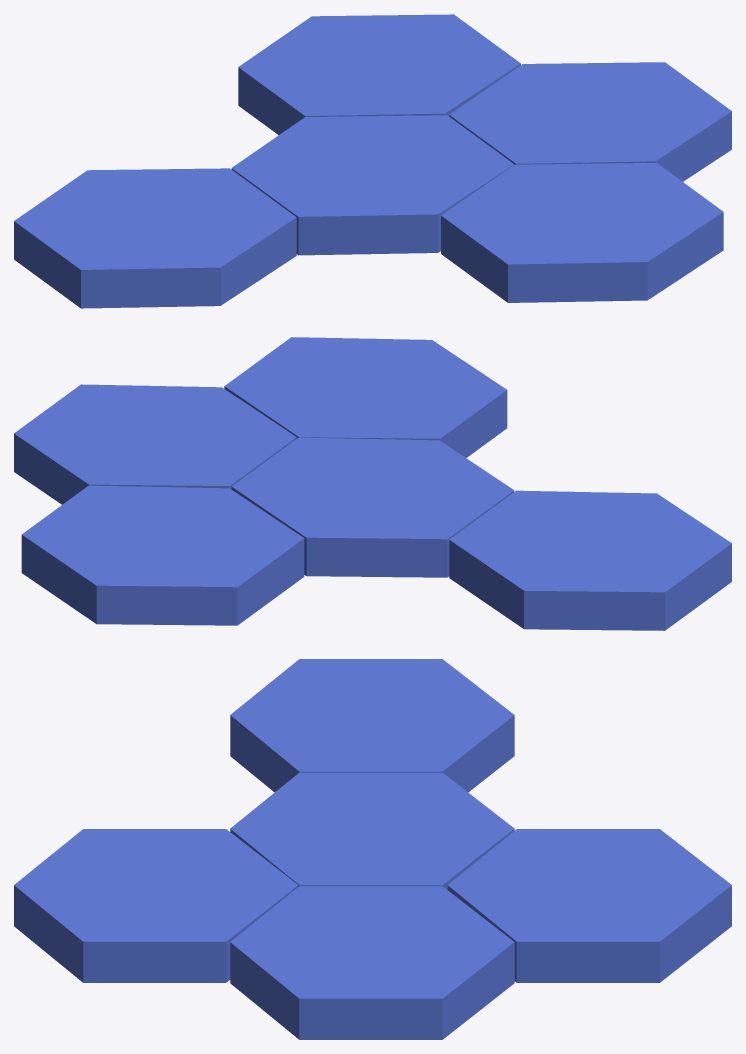
The picture shows the model from 3 angles, top to bottom: view 1: azimuth 30°, elevation 25°; view 2: azimuth 150°, elevation 25°; view 3: azimuth 270°, elevation 25°; orthographic projection. The views are drawn at different scales.
Parts seen in each view (by area): view 1: Cube, Cube.004, Cube.001, Cube.002, Cube.003; view 2: Cube.003, Cube, Cube.001, Cube.002, Cube.004; view 3: Cube.002, Cube.003, Cube.004, Cube, Cube.001.
Boxes of the visible parts, x1=… form: Cube: x1=14, y1=168, x2=296, y2=308; Cube.004: x1=441, y1=163, x2=723, y2=302; Cube.001: x1=231, y1=115, x2=514, y2=255; Cube.002: x1=449, y1=62, x2=731, y2=181; Cube.003: x1=238, y1=14, x2=520, y2=134; Cube.003: x1=21, y1=485, x2=304, y2=625; Cube: x1=449, y1=490, x2=731, y2=630; Cube.001: x1=231, y1=437, x2=514, y2=577; Cube.002: x1=14, y1=384, x2=296, y2=504; Cube.004: x1=224, y1=337, x2=507, y2=457; Cube.002: x1=230, y1=886, x2=514, y2=1039; Cube.003: x1=447, y1=829, x2=731, y2=982; Cube.004: x1=14, y1=829, x2=298, y2=982; Cube: x1=230, y1=659, x2=514, y2=792; Cube.001: x1=230, y1=772, x2=514, y2=889.
Bounding box in the file's own units: 1123 × 63.51 × 1003.
